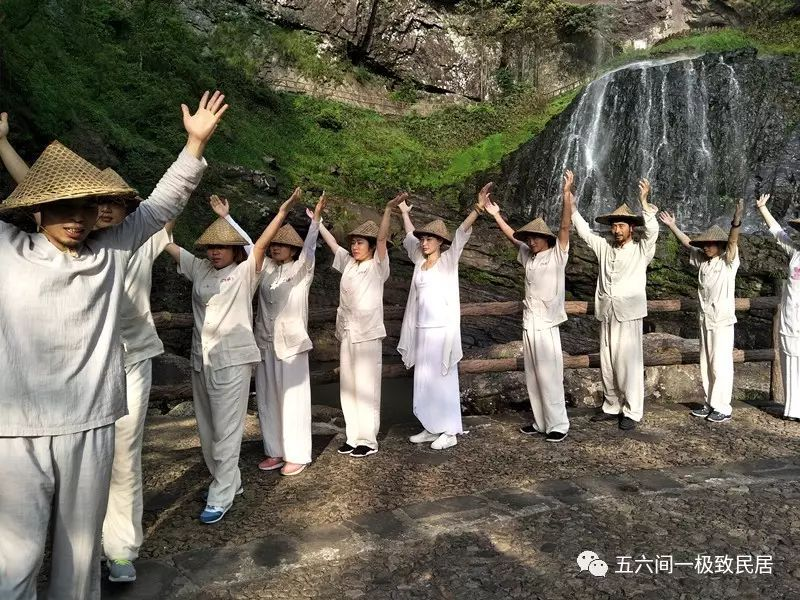handsup: (210, 175, 334, 472), (306, 167, 427, 465), (479, 157, 594, 448), (396, 173, 505, 456), (561, 169, 674, 436), (660, 184, 759, 427)
